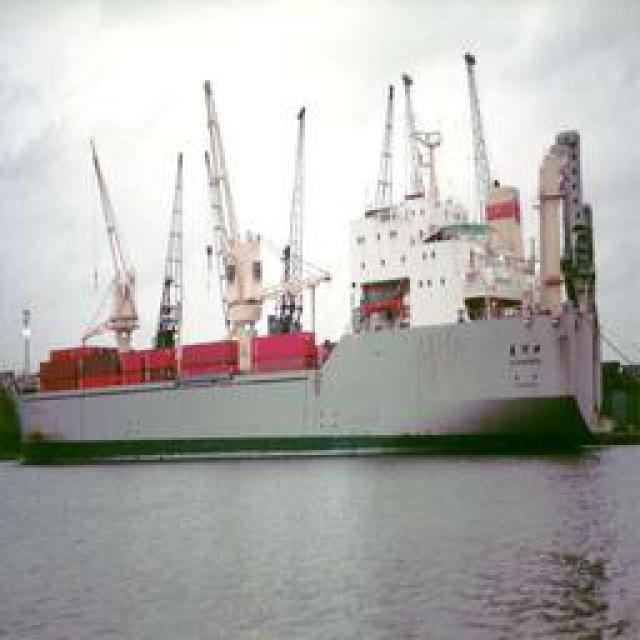Ship: (23, 56, 618, 459)
